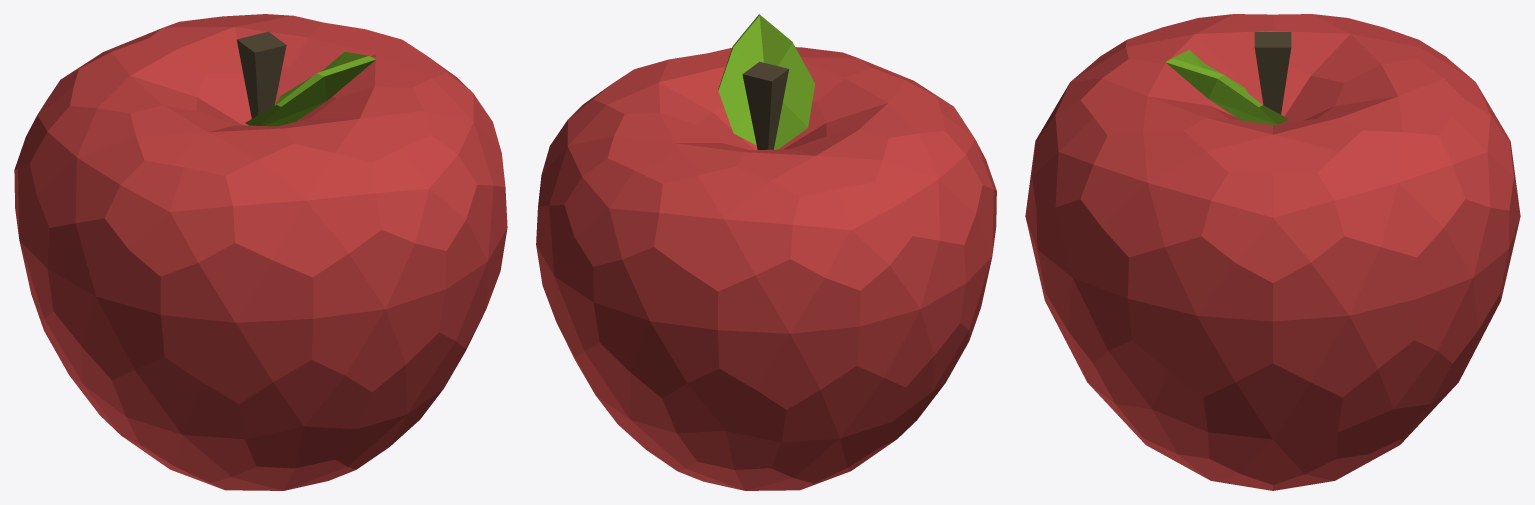
The model's file is applee.fbx.
3 renders of one model, left to right at view 1: azimuth 30°, elevation 25°; view 2: azimuth 150°, elevation 25°; view 3: azimuth 270°, elevation 25°, orthographic. The views are drawn at different scales.
Parts seen in each view (by area): view 1: 棱角球, 立方体.001, 立方体; view 2: 棱角球, 立方体.001, 立方体; view 3: 棱角球, 立方体.001, 立方体.
Boxes of the visible parts, <box> form: 棱角球: <box>14,14,507,490</box>; 立方体.001: <box>245,52,375,126</box>; 立方体: <box>236,31,286,118</box>; 棱角球: <box>536,47,996,490</box>; 立方体.001: <box>718,14,814,149</box>; 立方体: <box>742,61,788,149</box>; 棱角球: <box>1025,14,1520,490</box>; 立方体.001: <box>1165,50,1288,124</box>; 立方体: <box>1254,32,1291,114</box>.
Size of the model in its own units: 183 by 175 by 183.
